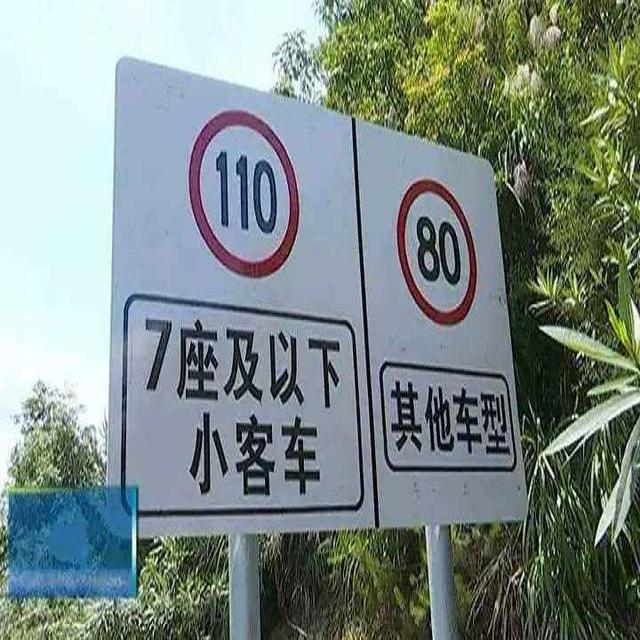speed limit 110: (187, 110, 301, 276)
speed limit 80: (394, 176, 478, 327)
